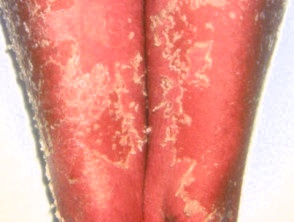SJS-TEN: (0, 0, 259, 222)
